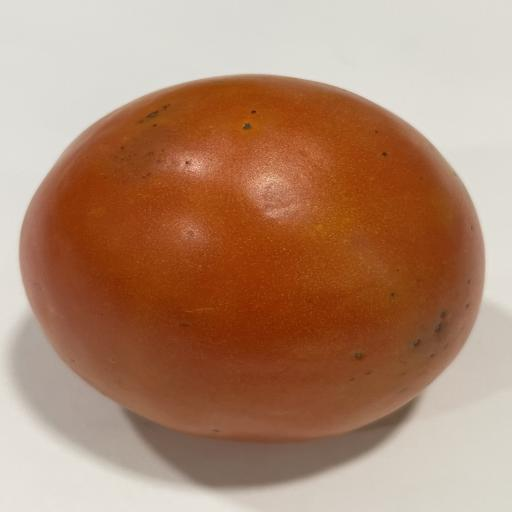ripe: (20, 75, 484, 442)
